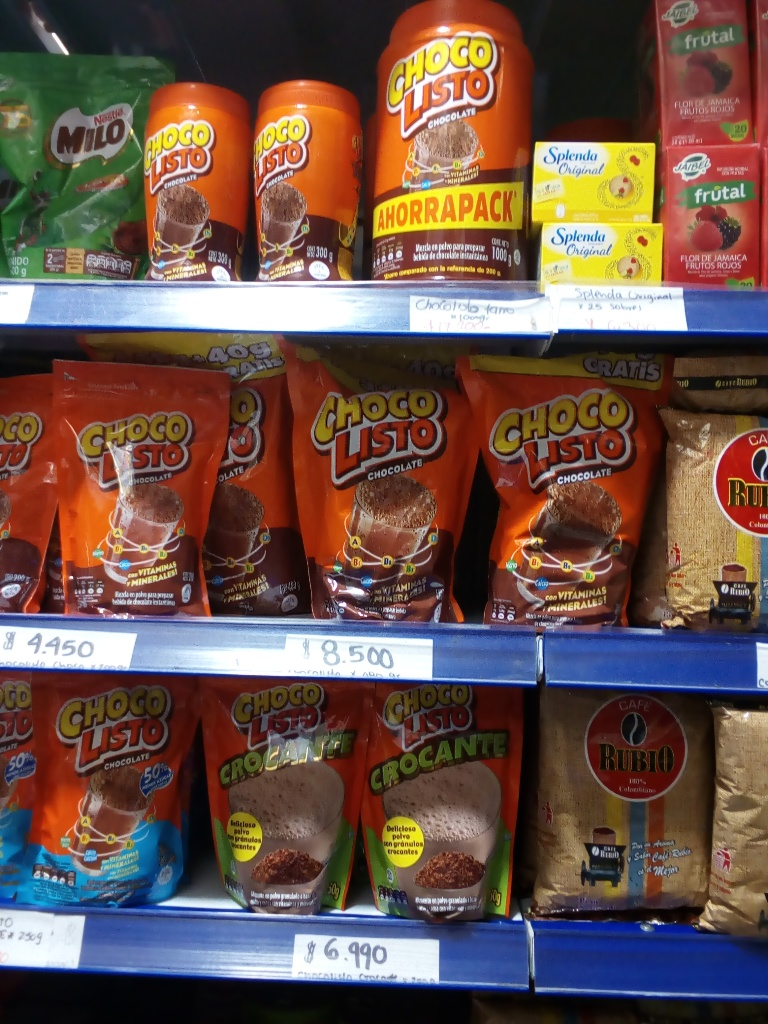COL0170103TRR00100: (367, 1, 541, 282)
